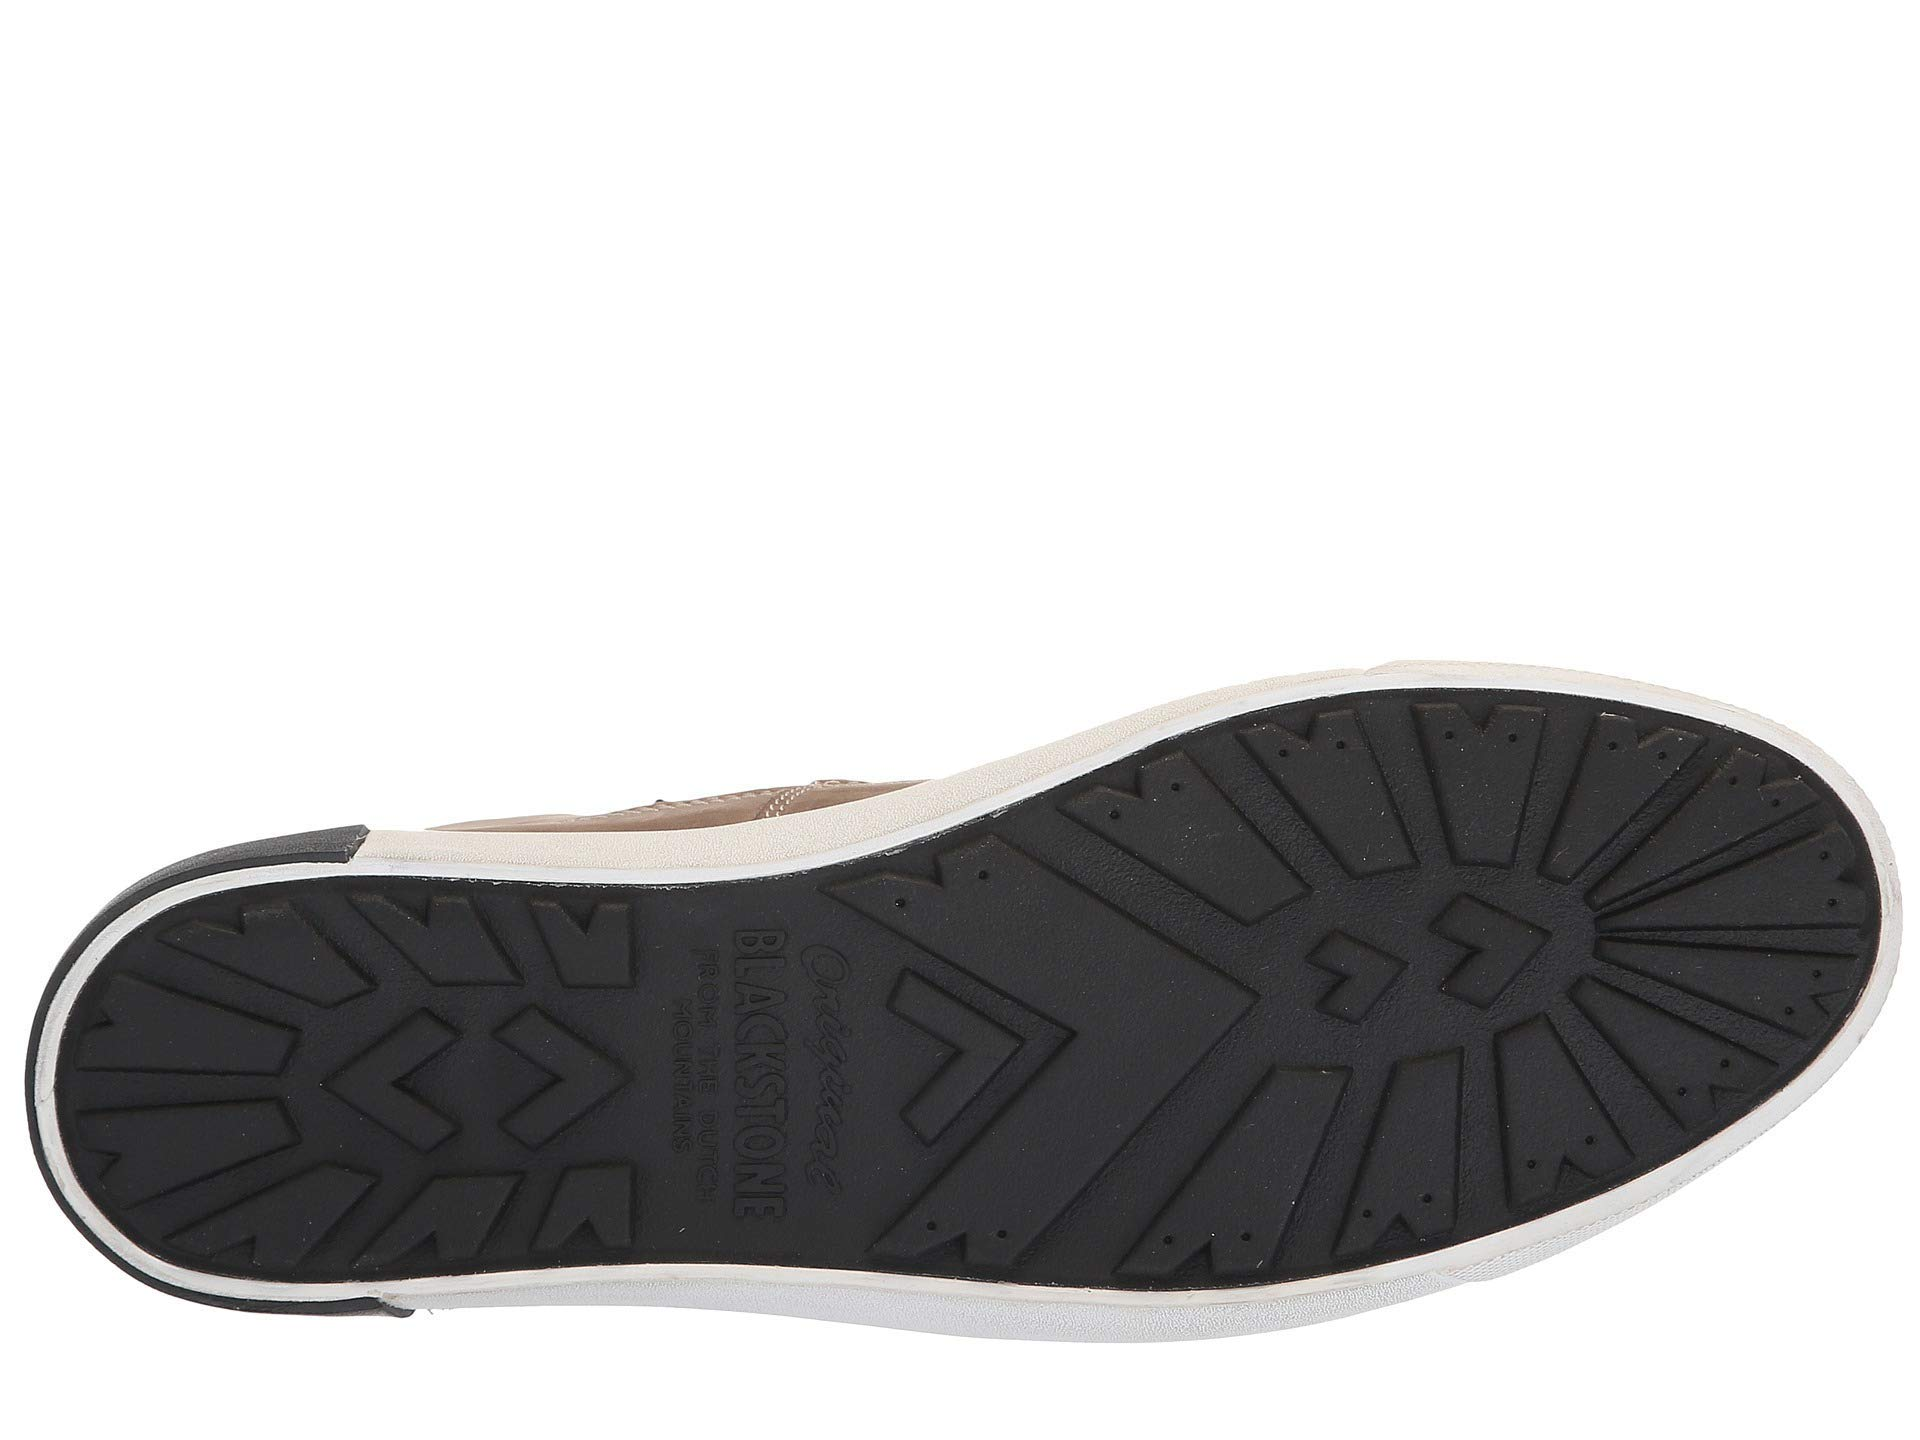chevron: (1264, 833, 1595, 1069)
